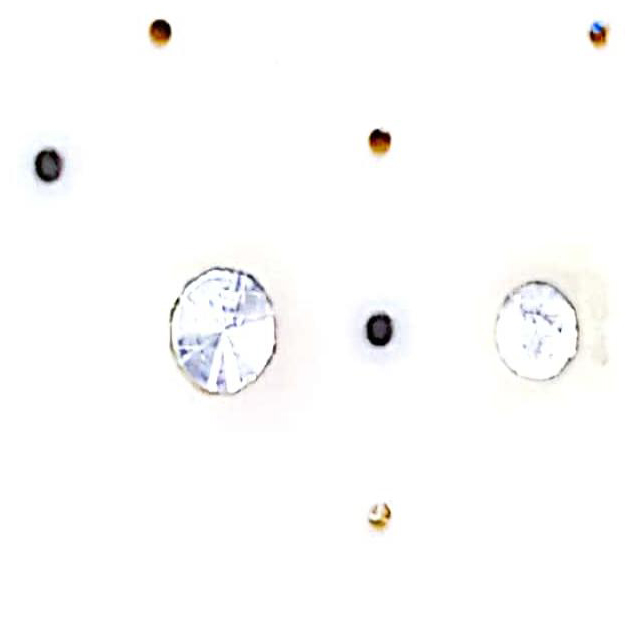abnormal: (155, 240, 297, 411), (469, 253, 615, 405)
cancer: (339, 299, 418, 385), (14, 134, 86, 195)
normal: (356, 110, 403, 169), (357, 495, 410, 545), (142, 10, 183, 56), (584, 13, 626, 57)
